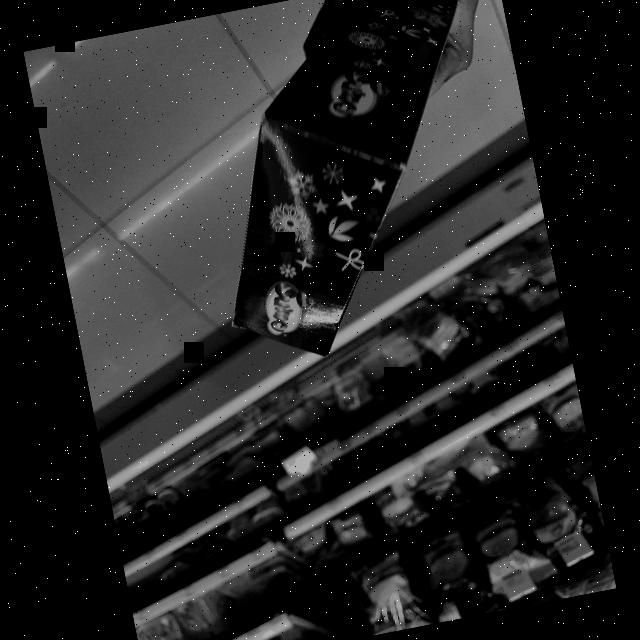cardboard_box: (156, 0, 526, 398)
